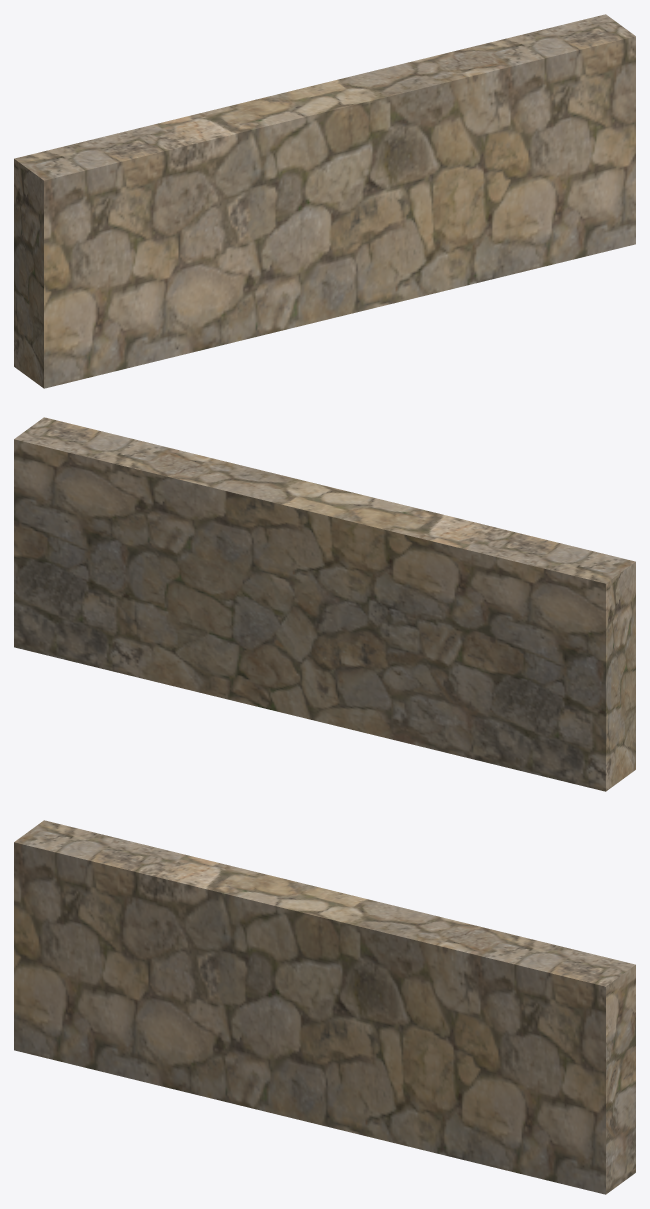
File: rock_fence_medium.dae
3 views of the same model, one above another, from view 1: azimuth 30°, elevation 25°; view 2: azimuth 150°, elevation 25°; view 3: azimuth 330°, elevation 25° (orthographic).
Parts seen in each view (by area): view 1: rock_wall_med; view 2: rock_wall_med; view 3: rock_wall_med.
Part boxes in pixels (x1,y1,x2,y2): rock_wall_med: [14, 14, 635, 388]; rock_wall_med: [14, 417, 635, 791]; rock_wall_med: [14, 820, 635, 1194].
Size of the model in its own units: 10.07 by 0.8873 by 3.38.
